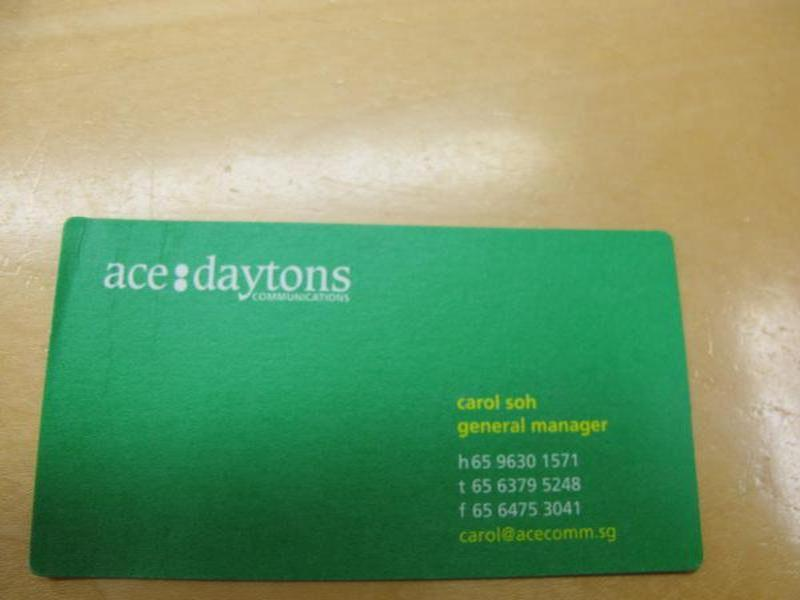card: (42, 222, 707, 585)
